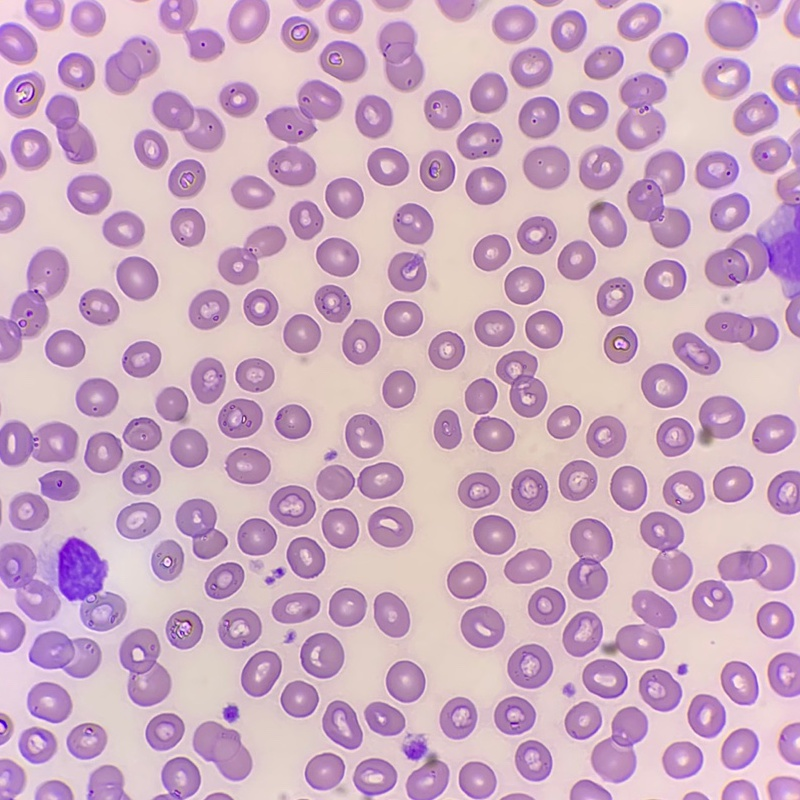RBC: (705, 169, 799, 335), (0, 249, 68, 362), (627, 151, 689, 247), (602, 590, 675, 660), (267, 80, 342, 142), (0, 543, 59, 620), (152, 91, 224, 151), (591, 707, 646, 781), (640, 512, 692, 590), (218, 226, 285, 284), (120, 629, 171, 705), (160, 0, 223, 60), (617, 73, 664, 150), (568, 519, 612, 599), (0, 421, 78, 466), (719, 544, 793, 590), (46, 95, 96, 163), (193, 721, 251, 779), (497, 351, 546, 416), (401, 734, 448, 799), (379, 22, 423, 91), (105, 38, 159, 94), (176, 499, 226, 558), (706, 312, 776, 350), (706, 3, 756, 49), (698, 396, 744, 445), (641, 363, 686, 407), (508, 644, 552, 688), (523, 146, 569, 188), (673, 333, 719, 374), (268, 146, 315, 186), (322, 701, 362, 748), (301, 633, 343, 677), (320, 41, 366, 81), (579, 147, 622, 189), (157, 757, 200, 799), (116, 257, 157, 300), (461, 606, 504, 647), (241, 651, 281, 695), (270, 486, 315, 525), (228, 0, 269, 42), (639, 669, 681, 710), (354, 758, 396, 799), (28, 682, 71, 722), (703, 59, 747, 98), (67, 175, 111, 214), (368, 507, 412, 546), (5, 74, 44, 117), (218, 399, 262, 437), (563, 612, 601, 656), (589, 201, 626, 246), (510, 47, 551, 87), (663, 471, 703, 512), (219, 608, 261, 647), (752, 414, 795, 452), (583, 659, 626, 697), (342, 319, 379, 363), (30, 631, 74, 668), (357, 462, 402, 498), (692, 580, 732, 620), (519, 97, 558, 138), (644, 260, 685, 299), (474, 515, 515, 554), (316, 238, 358, 276), (82, 594, 126, 630), (505, 549, 551, 583), (734, 95, 774, 134), (11, 129, 50, 169), (393, 204, 432, 244), (189, 290, 229, 329), (586, 416, 625, 456), (76, 378, 117, 416), (386, 661, 424, 702), (355, 95, 392, 137), (345, 415, 382, 457), (226, 447, 269, 483), (610, 466, 646, 509), (117, 502, 160, 538), (721, 661, 757, 704), (457, 123, 501, 158), (191, 358, 225, 403), (568, 91, 607, 130), (618, 3, 659, 40), (688, 694, 724, 736), (374, 593, 409, 636), (325, 178, 363, 217), (368, 148, 408, 185), (85, 432, 122, 472), (287, 537, 324, 577), (494, 697, 534, 734), (103, 211, 144, 247), (440, 697, 476, 738), (493, 7, 535, 42), (272, 592, 319, 623), (470, 73, 507, 112), (424, 90, 461, 129), (466, 167, 505, 204), (388, 252, 425, 291), (559, 460, 596, 499), (696, 152, 736, 188), (458, 472, 499, 507), (649, 34, 686, 72), (518, 217, 556, 254), (505, 267, 543, 304), (283, 314, 320, 352), (447, 561, 485, 598), (329, 588, 366, 626), (0, 25, 36, 64), (475, 310, 514, 346), (322, 508, 358, 547), (515, 740, 551, 779), (512, 470, 547, 510), (168, 160, 205, 197), (170, 429, 207, 466), (11, 492, 48, 529), (558, 241, 594, 279), (80, 289, 118, 325), (46, 330, 84, 366), (166, 610, 202, 648), (146, 713, 184, 749), (305, 753, 343, 789), (713, 466, 752, 501), (67, 723, 106, 758), (721, 728, 756, 767), (663, 742, 702, 777), (768, 652, 799, 696), (551, 11, 585, 51), (420, 150, 454, 190), (232, 176, 273, 209), (768, 470, 799, 513), (123, 341, 160, 377), (657, 418, 693, 455), (219, 82, 257, 117), (205, 563, 243, 598), (474, 417, 513, 451), (526, 311, 562, 347), (528, 588, 564, 624), (281, 681, 317, 717), (459, 762, 495, 798), (710, 194, 745, 231), (597, 278, 632, 315), (429, 332, 464, 369), (238, 519, 275, 554), (316, 465, 354, 499), (365, 702, 404, 735), (58, 54, 94, 89), (757, 602, 792, 638), (565, 702, 600, 738), (281, 17, 318, 51), (385, 301, 422, 335), (584, 46, 622, 79), (134, 130, 167, 168), (171, 208, 204, 246), (69, 638, 101, 677), (474, 235, 509, 270), (315, 285, 349, 321), (752, 139, 789, 172), (236, 358, 273, 391), (123, 461, 160, 494), (290, 201, 322, 239), (152, 540, 183, 579), (244, 289, 277, 325), (20, 727, 56, 760), (124, 418, 161, 450), (71, 1, 105, 35), (275, 405, 310, 438), (604, 326, 636, 362), (41, 470, 79, 500), (90, 765, 123, 799), (383, 371, 414, 407), (156, 387, 187, 423), (26, 0, 63, 29), (547, 406, 580, 438), (328, 0, 362, 31), (465, 379, 496, 413), (0, 759, 25, 799), (434, 410, 460, 448), (0, 612, 25, 651), (772, 68, 799, 104), (0, 193, 24, 232), (438, 0, 478, 20), (779, 722, 799, 762), (570, 780, 610, 799), (768, 777, 799, 799), (38, 780, 73, 799), (722, 780, 756, 799), (748, 0, 777, 14), (377, 0, 408, 9), (223, 703, 238, 718), (296, 0, 320, 8), (598, 0, 620, 7), (685, 792, 704, 799), (507, 793, 528, 799), (208, 793, 228, 799), (790, 0, 799, 12), (563, 685, 574, 694), (540, 0, 557, 5), (0, 157, 5, 174), (785, 14, 793, 24), (793, 132, 799, 145), (794, 151, 799, 164), (251, 561, 259, 569), (273, 569, 281, 577), (792, 26, 799, 35)
